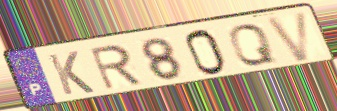0: (184, 28, 230, 77)
8: (138, 36, 186, 82)
K: (45, 49, 98, 97)
Q: (226, 23, 279, 67)
R: (86, 43, 145, 92)
V: (263, 9, 313, 64)
